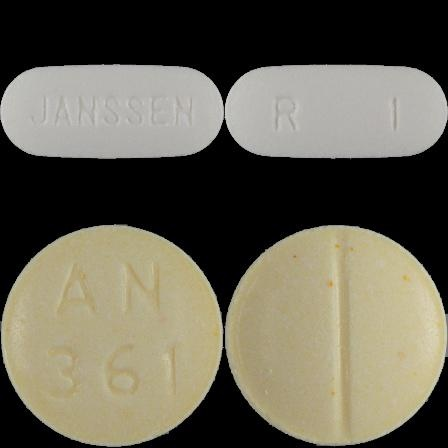55289-491: (0, 0, 224, 224)
